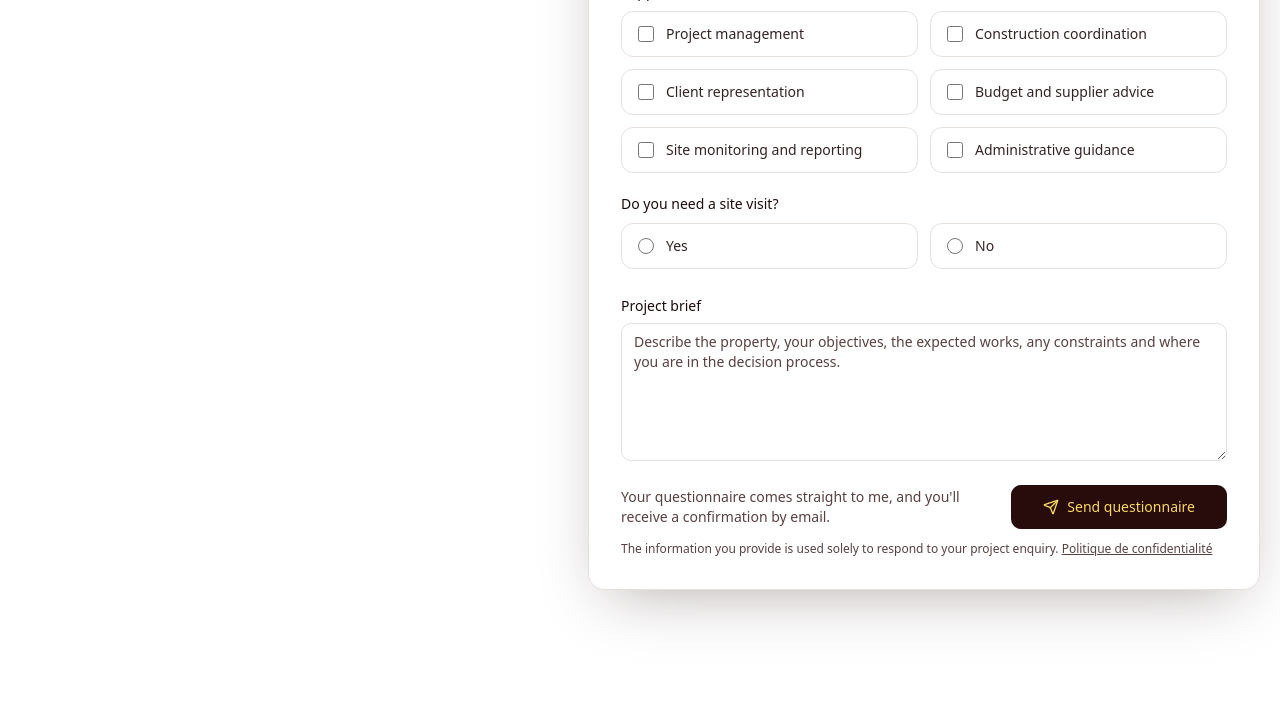
Scenario: Questionnaire form validation › shows validation errors and does not submit when required fields are empty
(page scrolled)
Click the button "Send questionnaire". click: (1119, 507)
box: x1=1011 y1=485 x2=1227 y2=529
(page scrolled)
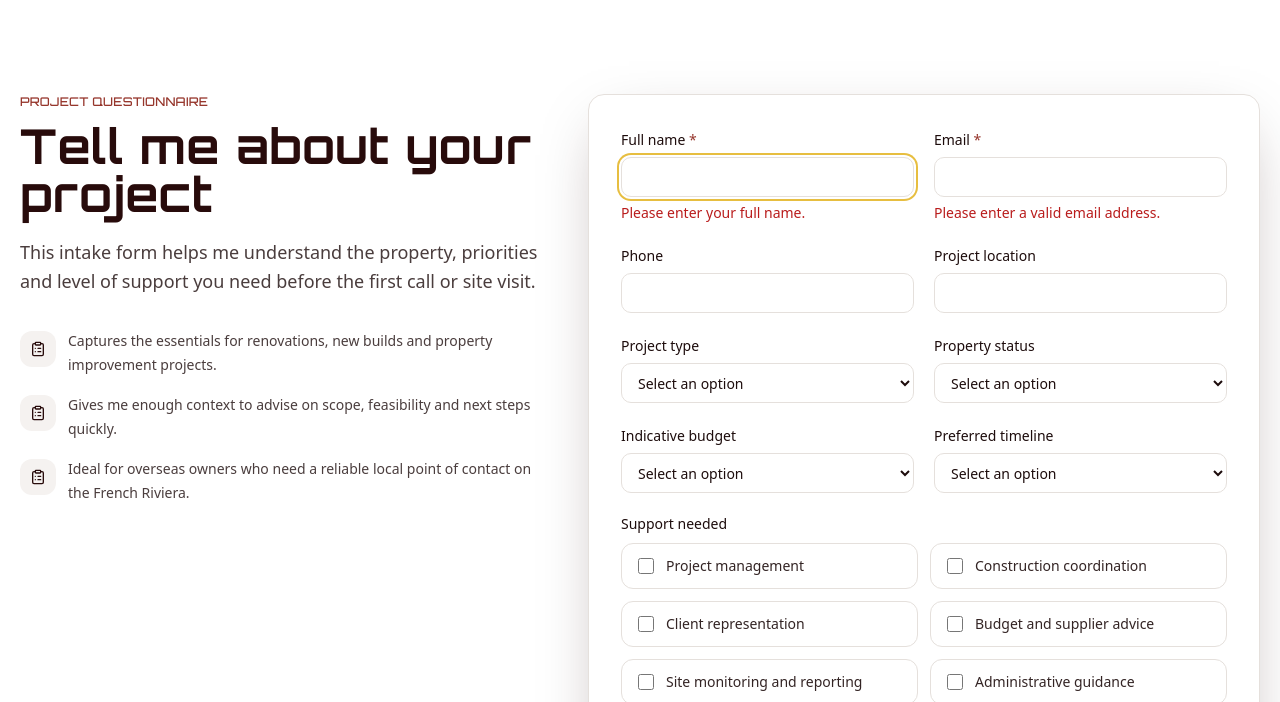
Now the text "Please enter your full name." is shown, box x1=621 y1=203 x2=805 y2=222
Now the text "Please enter a valid email address." is shown, box x1=934 y1=203 x2=1160 y2=222
